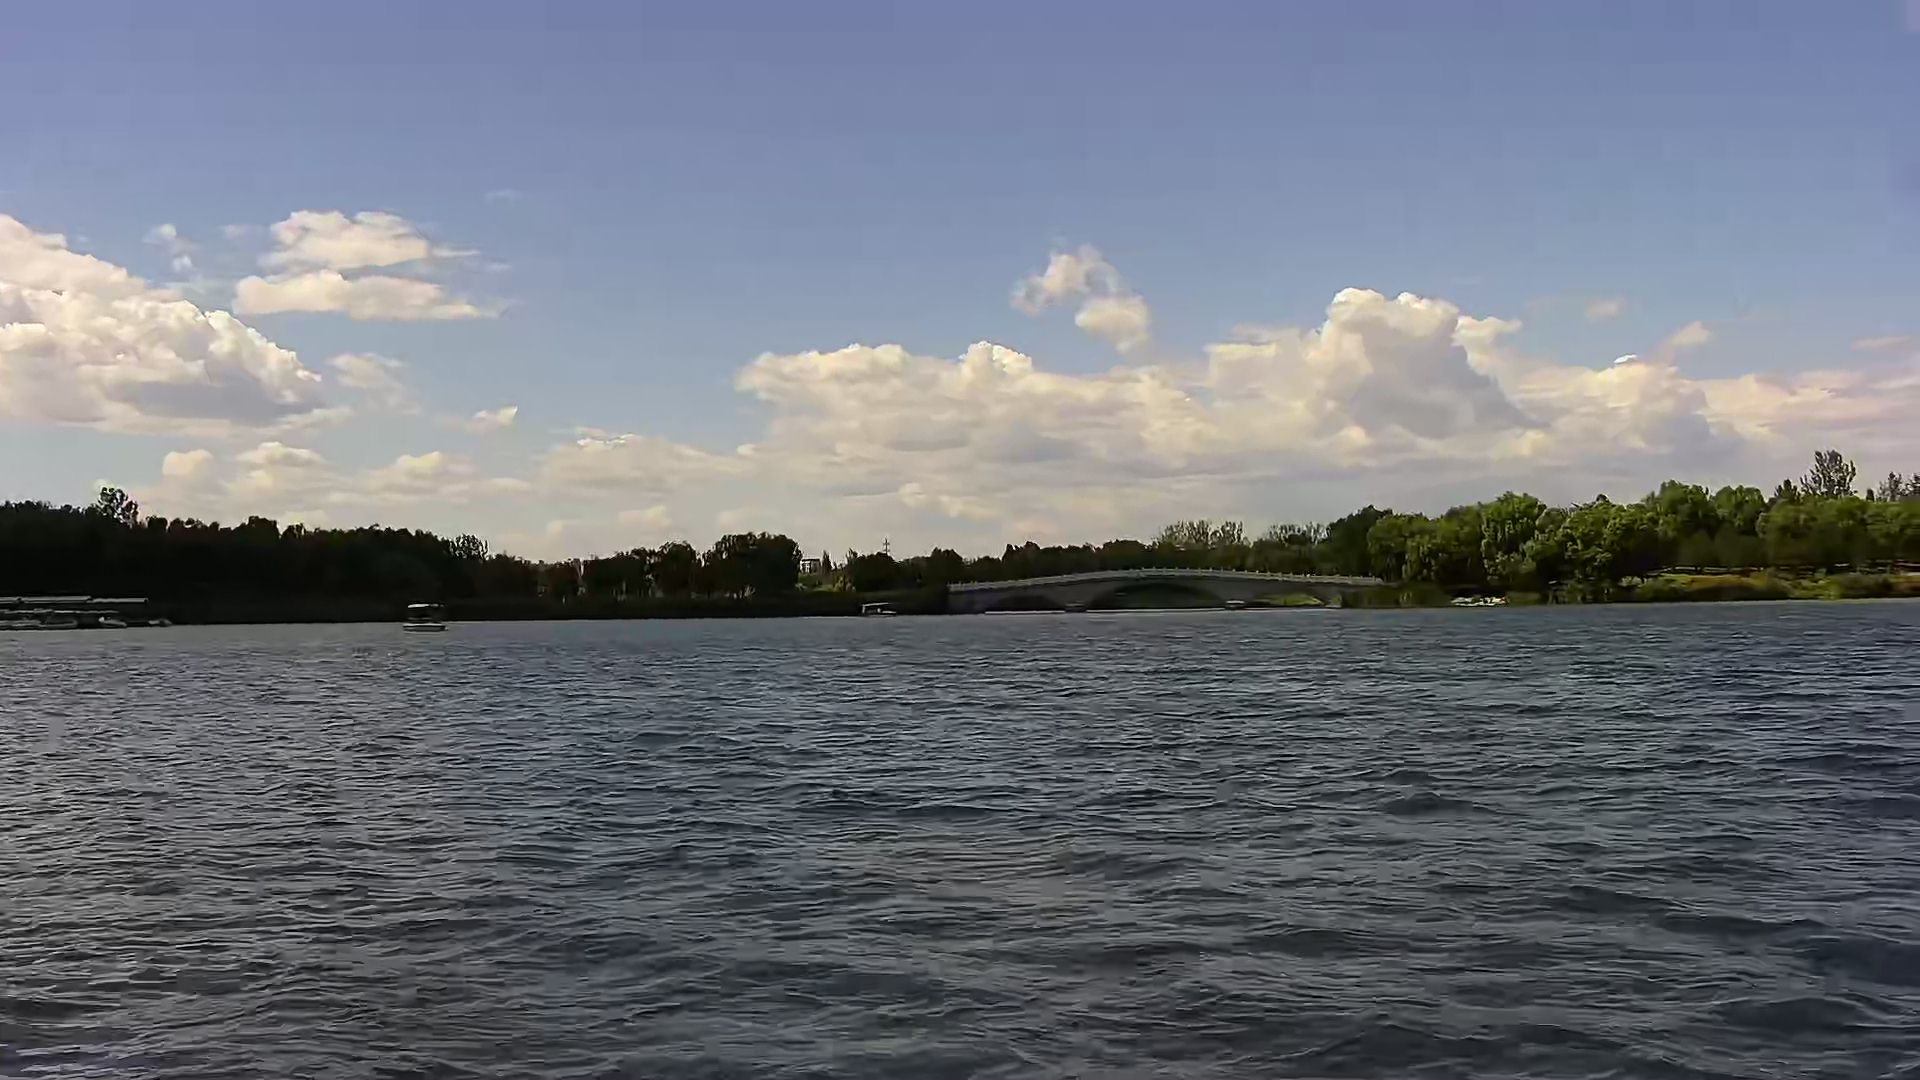boat: (400, 593, 444, 637)
bridge: (948, 560, 1386, 613)
harbor: (1, 589, 174, 632)
